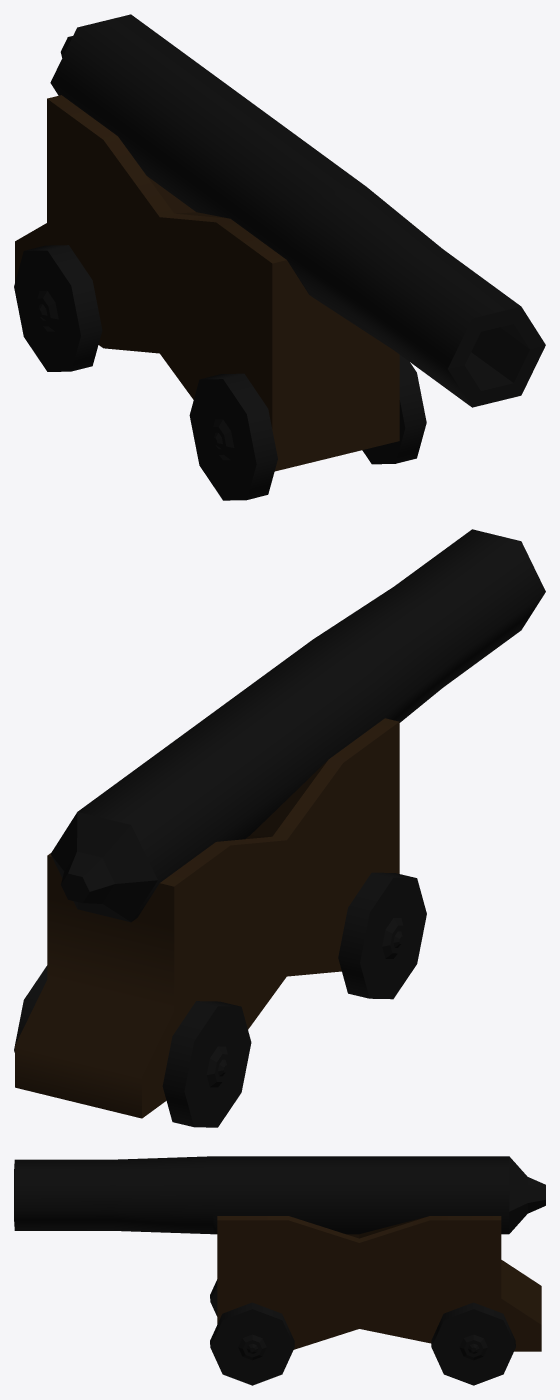
Rendered from Cannon_final.FBX.
The picture shows the model from 3 angles, top to bottom: view 1: azimuth 30°, elevation 25°; view 2: azimuth 150°, elevation 25°; view 3: azimuth 270°, elevation 25°; orthographic projection. The views are drawn at different scales.
Parts seen in each view (by area): view 1: Cylinder001, Box001, Object001, Cylinder002, Object003; view 2: Box001, Cylinder001, Cylinder002, Object001; view 3: Cylinder001, Box001, Object003, Object002.
Boxes of the visible parts, left/top/right/bottom form: Cylinder001: left=50, top=14, right=545, bottom=407; Box001: left=15, top=95, right=399, bottom=471; Object001: left=189, top=373, right=277, bottom=500; Cylinder002: left=14, top=245, right=102, bottom=371; Object003: left=362, top=355, right=426, bottom=464; Box001: left=15, top=718, right=399, bottom=1118; Cylinder001: left=50, top=529, right=545, bottom=922; Cylinder002: left=162, top=1001, right=251, bottom=1127; Object001: left=338, top=872, right=426, bottom=999; Cylinder001: left=14, top=1156, right=545, bottom=1234; Box001: left=217, top=1216, right=541, bottom=1351; Object003: left=210, top=1302, right=294, bottom=1385; Object002: left=431, top=1302, right=515, bottom=1385.
Bounding box in the file's own units: 4.1 × 6.52 × 16.13.
